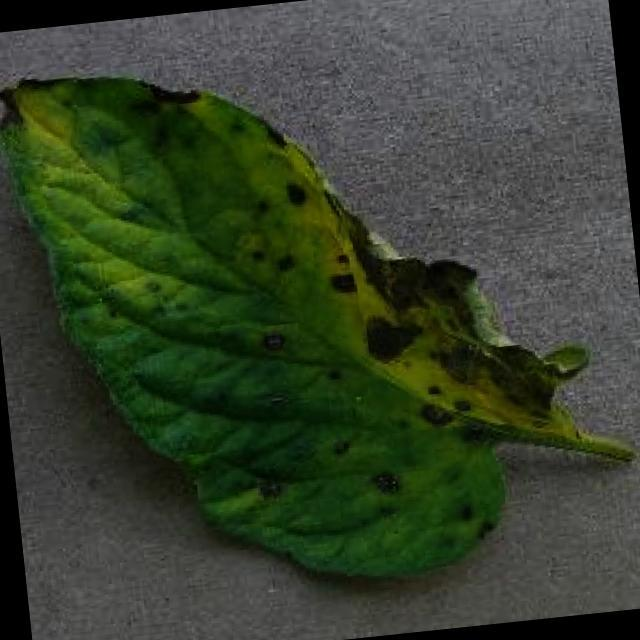Tomato Early blight leaf: (0, 22, 611, 618)
